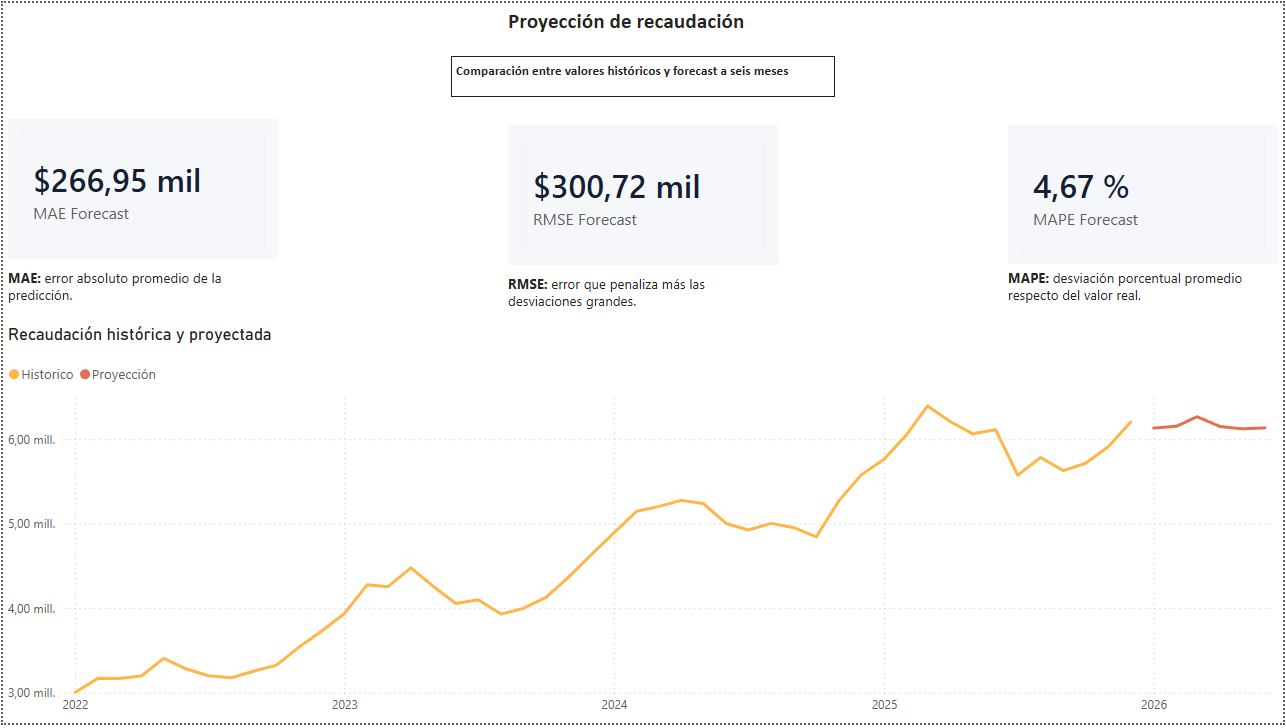

The dashboard page shown, as its layout file describes it:
{"tool":"powerbi","page":{"name":"Forecasting","canvas":[1280,720],"ordinal":1},"visuals":[{"type":"textbox","box":[10,0,280,280],"z":0},{"type":"textbox","box":[500,0,332,53],"z":1000},{"type":"textbox","box":[448,53,384,41],"z":2000},{"type":"lineChart","title":"Recaudación histórica y proyectada","fields":{"Category":["Calendario.Date"],"Y":["Sum(revenue_forecast.value)"],"Series":["revenue_forecast.series"]},"box":[0,321,1280,399],"z":3000},{"type":"cardVisual","fields":{"Data":["forecast_metrics.MAE Forecast"]},"box":[0,111,280,150],"z":4000},{"type":"cardVisual","fields":{"Data":["forecast_metrics.MAPE Forecast"]},"box":[1000,117,280,150],"z":5000},{"type":"cardVisual","fields":{"Data":["forecast_metrics.RMSE Forecast"]},"box":[500,117,280,150],"z":6000},{"type":"textbox","box":[0,261,280,51],"z":7000},{"type":"textbox","box":[500,267,280,54],"z":8000},{"type":"textbox","box":[1000,261,280,60],"z":8001}]}

Visuals, with their boxes in screenshot pixels (x1, y1, x2, y2), scaled from the page's 1280x720 canvas onto the 1286x728 screenshot:
textbox: x1=10 y1=0 x2=291 y2=283
textbox: x1=502 y1=0 x2=836 y2=54
textbox: x1=450 y1=54 x2=836 y2=95
"Recaudación histórica y proyectada" lineChart: x1=0 y1=325 x2=1285 y2=727
cardVisual - forecast_metrics.MAE Forecast: x1=0 y1=112 x2=281 y2=264
cardVisual - forecast_metrics.MAPE Forecast: x1=1005 y1=118 x2=1285 y2=270
cardVisual - forecast_metrics.RMSE Forecast: x1=502 y1=118 x2=784 y2=270
textbox: x1=0 y1=264 x2=281 y2=315
textbox: x1=502 y1=270 x2=784 y2=325
textbox: x1=1005 y1=264 x2=1285 y2=325
